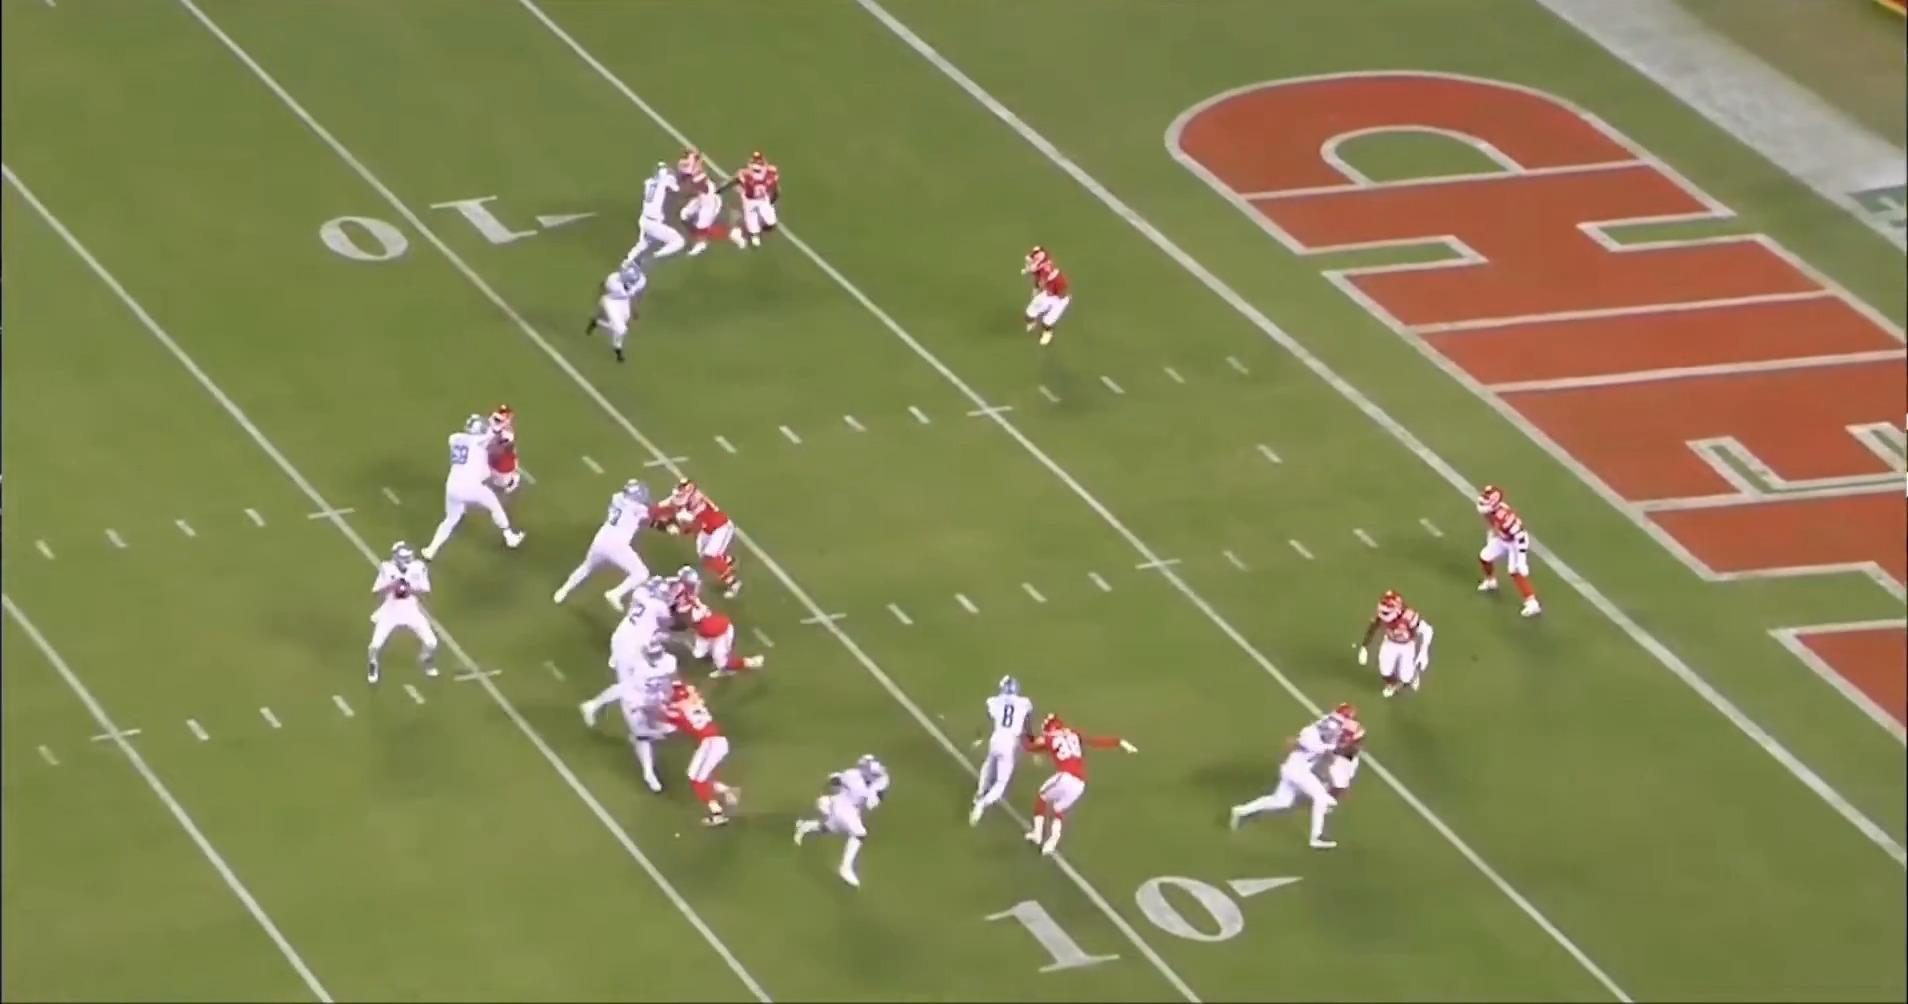player: (1230, 701, 1369, 852), (1027, 715, 1144, 863), (555, 477, 677, 611), (421, 407, 524, 560), (796, 750, 898, 890), (578, 578, 672, 727), (355, 538, 443, 688), (661, 682, 746, 833), (971, 673, 1044, 827), (611, 639, 681, 799), (1466, 487, 1539, 629), (668, 571, 760, 683), (1361, 588, 1443, 705), (617, 151, 686, 268), (673, 479, 742, 594), (582, 261, 652, 370), (1310, 700, 1373, 821), (682, 150, 751, 258), (1019, 243, 1077, 351), (720, 146, 780, 250), (476, 400, 525, 495), (658, 560, 708, 602)
